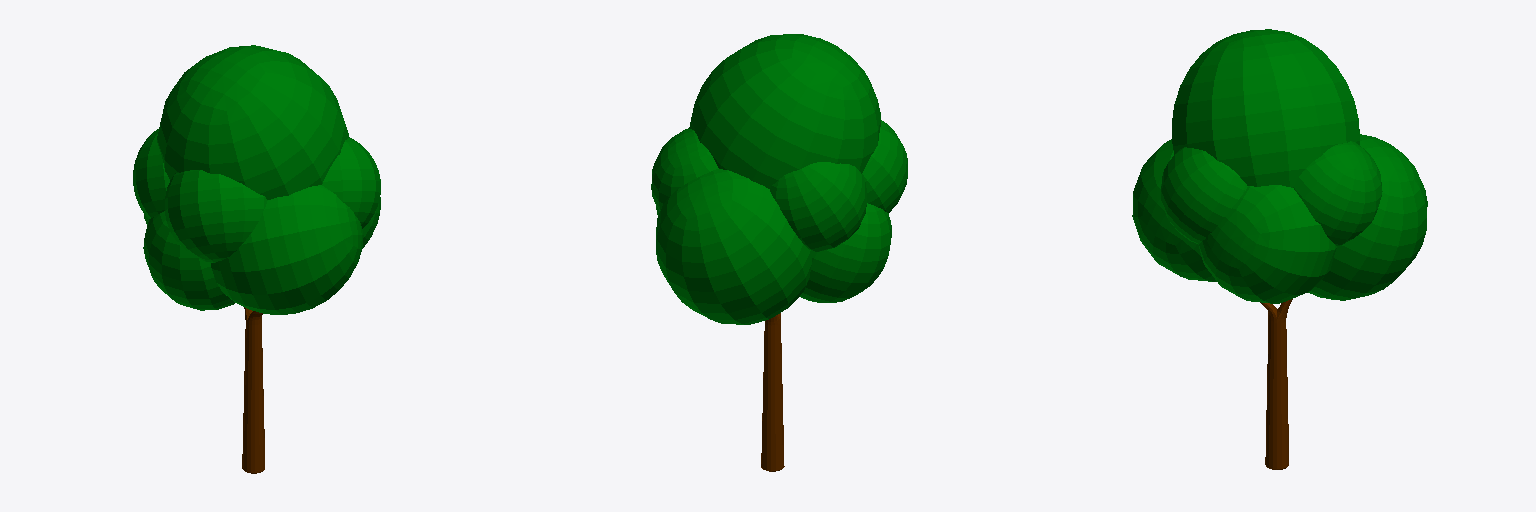
The model's file is Tree1.obj.
3 renders of one model, left to right at view 1: azimuth 30°, elevation 25°; view 2: azimuth 150°, elevation 25°; view 3: azimuth 270°, elevation 25°, orthographic.
Parts seen in each view (by area): view 1: polySurface2; view 2: polySurface2; view 3: polySurface2.
Boxes of the visible parts, x1,y1,x2,y2 form: polySurface2: [133, 45, 380, 473]; polySurface2: [651, 34, 907, 471]; polySurface2: [1132, 29, 1427, 469].
Bounding box in the file's own units: 5.06 × 9.32 × 5.88.